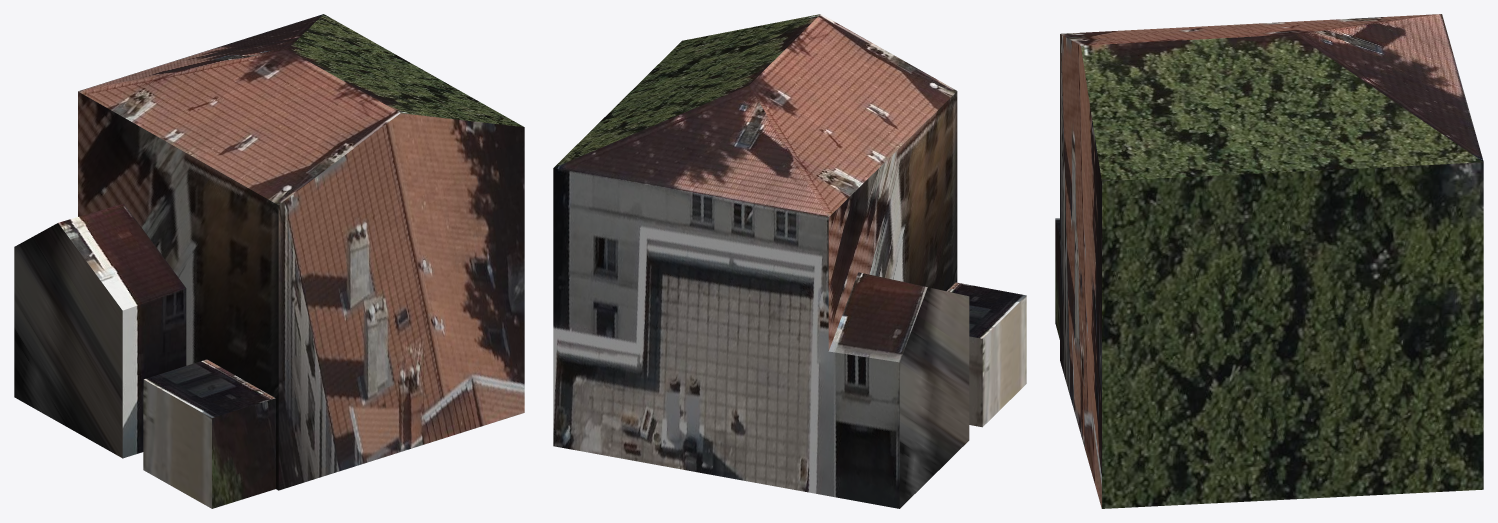
3 renders of one model, left to right at view 1: azimuth 30°, elevation 25°; view 2: azimuth 150°, elevation 25°; view 3: azimuth 270°, elevation 25°, orthographic. The views are drawn at different scales.
Visible parts, largest first — view 1: Z_UP; view 2: Z_UP; view 3: Z_UP.
Part boxes in pixels (x1,y1,x2,y2): Z_UP: [14, 14, 524, 508]; Z_UP: [553, 14, 1026, 508]; Z_UP: [1055, 14, 1483, 508].
Bounding box in the file's own units: 19.28 × 17.03 × 17.01.
Materials: 2 (1 with a texture image).
